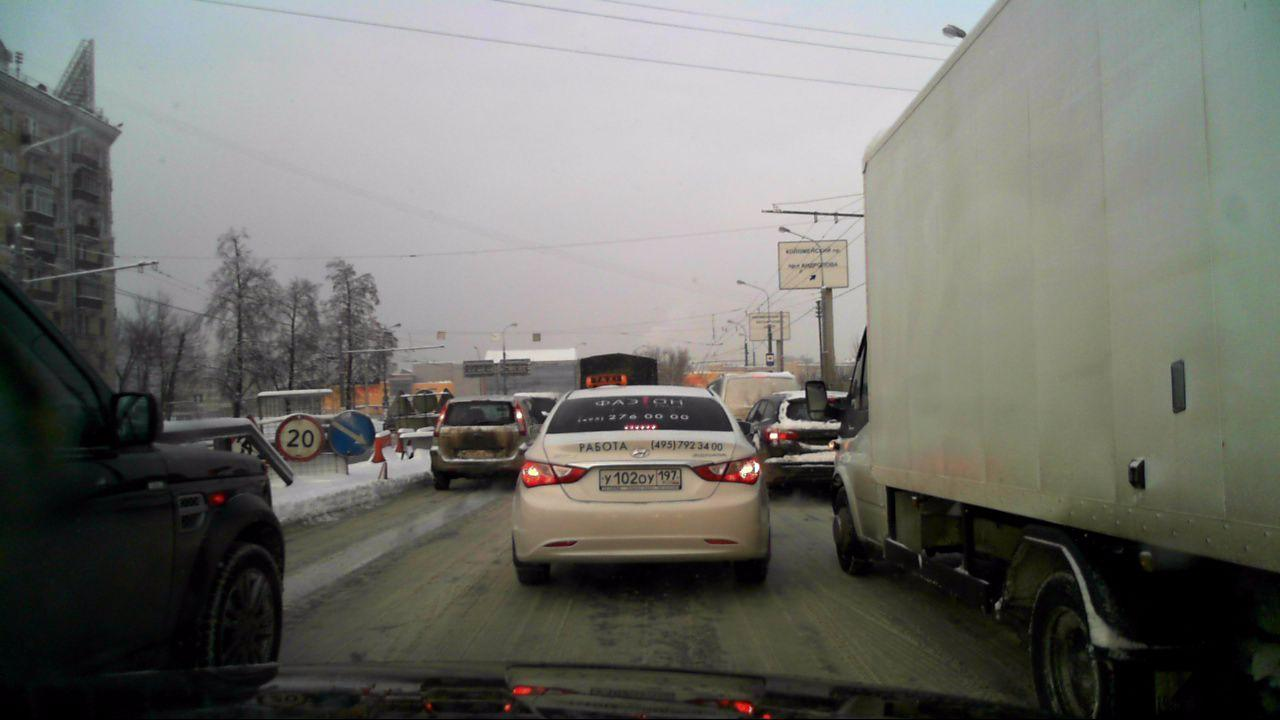road_sign: (274, 414, 325, 463), (327, 410, 377, 457)
